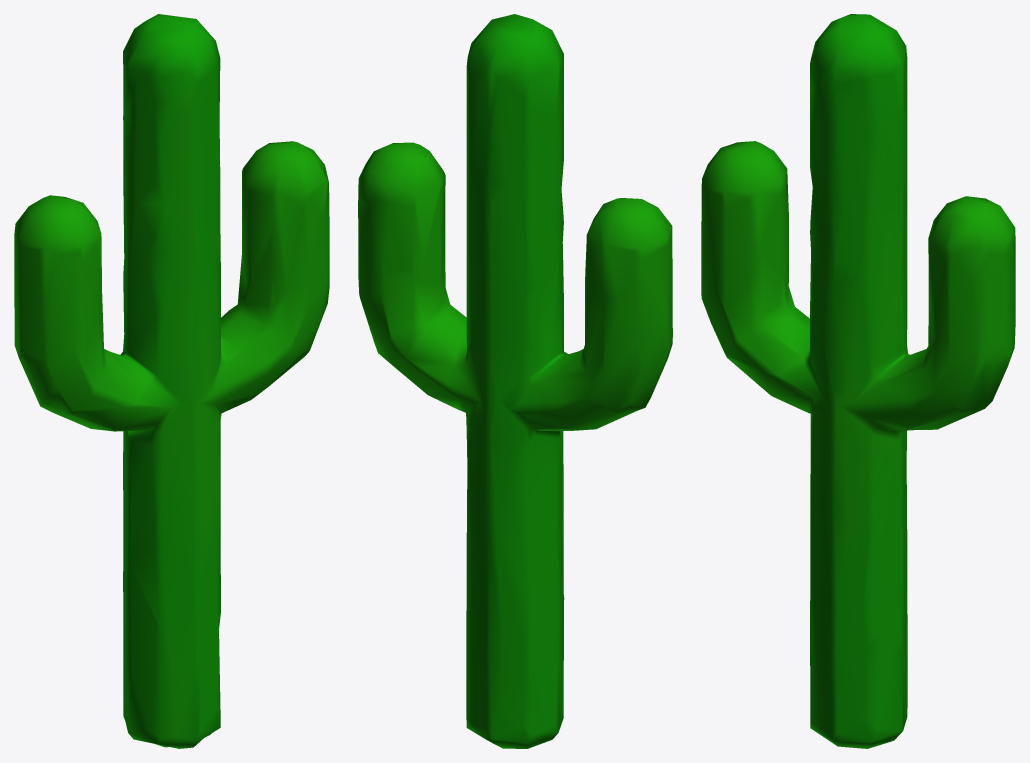
The model's file is gen3d-saguaro-cactus-lod0.glb.
3 views of the same model, side by side, from view 1: azimuth 30°, elevation 25°; view 2: azimuth 150°, elevation 25°; view 3: azimuth 330°, elevation 25° (orthographic).
Visible parts, largest first — view 1: part_0; view 2: part_0; view 3: part_0.
Boxes of the visible parts, x1,y1,x2,y2 form: part_0: [14, 14, 329, 748]; part_0: [358, 14, 672, 748]; part_0: [701, 14, 1015, 748].
Size of the model in its own units: 0.4438 by 0.9998 by 0.129.
